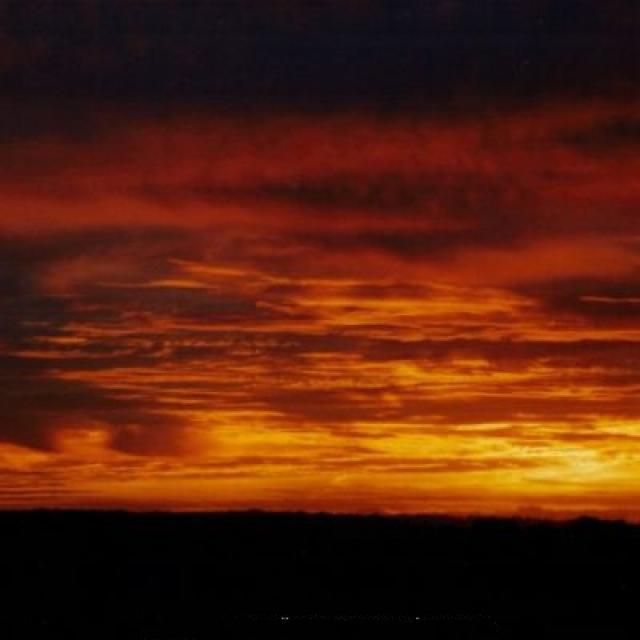As: (1, 128, 640, 485)
